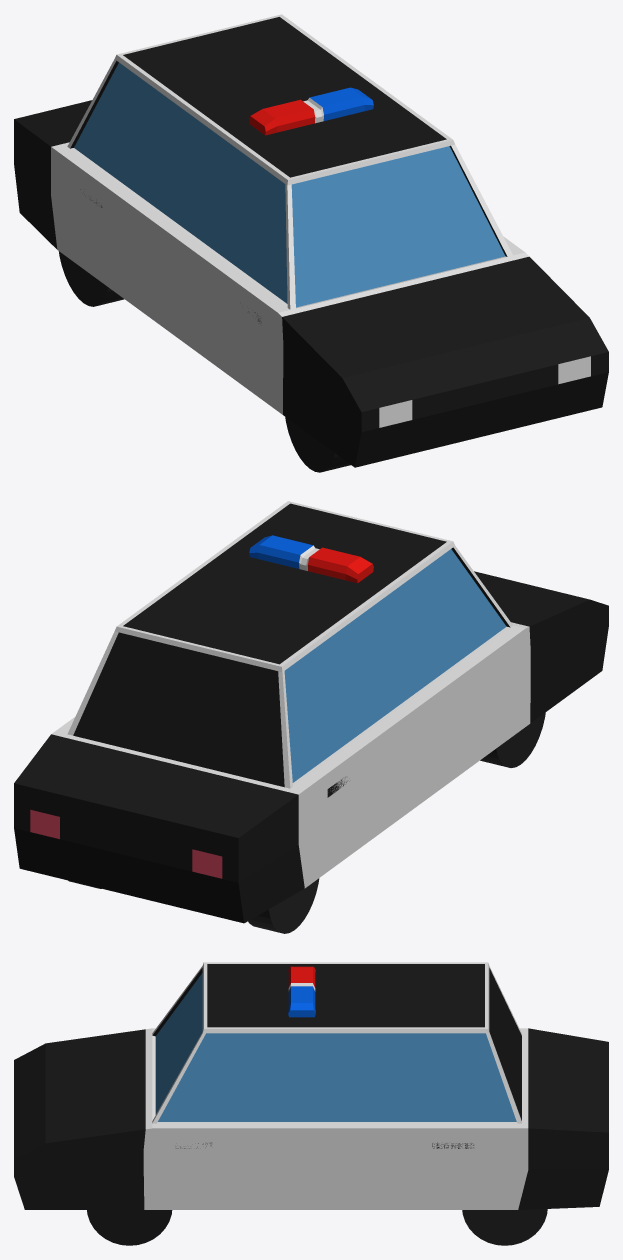
The model's file is Low poly car 3.fbx.
The picture shows the model from 3 angles, top to bottom: view 1: azimuth 30°, elevation 25°; view 2: azimuth 150°, elevation 25°; view 3: azimuth 270°, elevation 25°; orthographic projection. The views are drawn at different scales.
Parts seen in each view (by area): view 1: Cube, Cube.011, Cube.005, Cube.006, Cube.007, Cube.003, Cube.004, Cube.012, Cube.008; view 2: Cube, Cube.005, Cube.011, Cube.006, Cube.003, Cube.007, Cube.004, Cube.013, Cube.008; view 3: Cube, Cube.005, Cube.011, Cube.006, Cube.002, Cube.001, Cube.008, Cube.007.
Boxes of the visible parts, x1,y1,x2,y2 form: Cube: (14,17,608,467); Cube.011: (74,62,505,307); Cube.005: (55,14,525,410); Cube.006: (51,142,528,414); Cube.007: (249,99,315,135); Cube.003: (58,251,124,306); Cube.004: (285,417,350,472); Cube.012: (379,356,590,427); Cube.008: (309,87,373,120); Cube: (14,503,608,923); Cube.005: (55,501,525,885); Cube.011: (284,549,506,782); Cube.006: (51,622,530,888); Cube.003: (248,878,319,933); Cube.007: (308,547,373,583); Cube.004: (480,712,545,767); Cube.013: (30,809,222,878); Cube.008: (249,535,312,568); Cube: (14,964,608,1209); Cube.005: (152,962,521,1209); Cube.011: (155,973,516,1121); Cube.006: (143,1028,528,1209); Cube.002: (462,1209,547,1245); Cube.001: (87,1210,172,1245); Cube.008: (288,986,315,1017); Cube.007: (288,966,315,987).
Bounding box in the file's own units: 807 × 821 × 2027.
